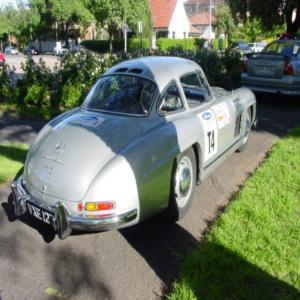Vehicle-registration-plate: (27, 200, 57, 225), (259, 66, 271, 74)
